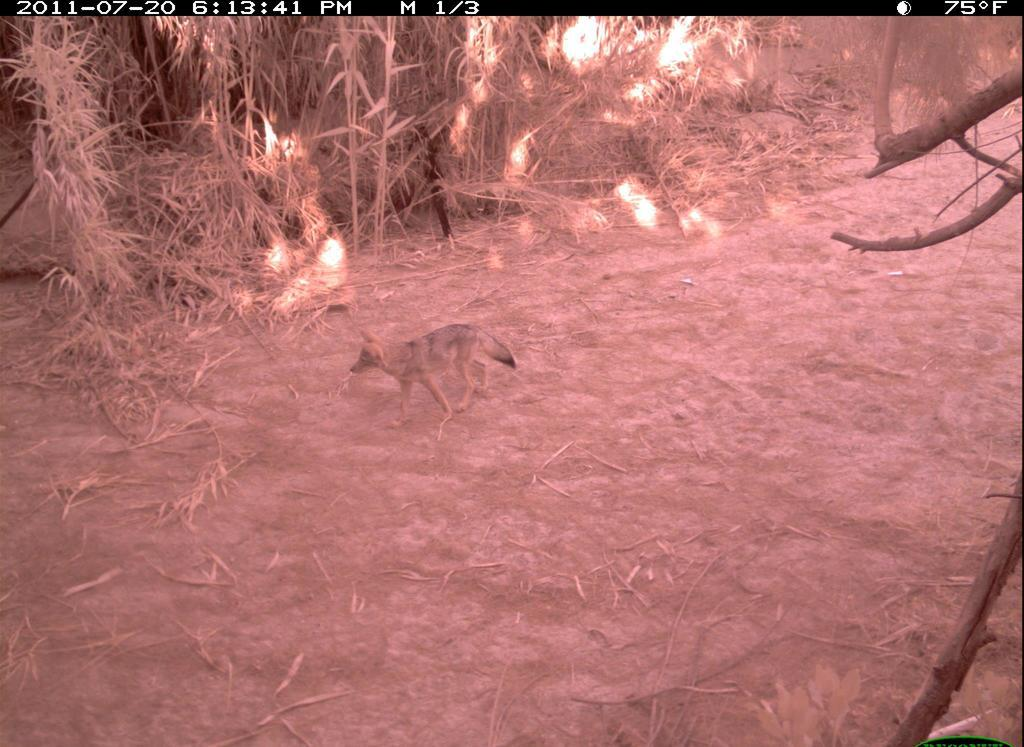coyote: (347, 305, 525, 422)
